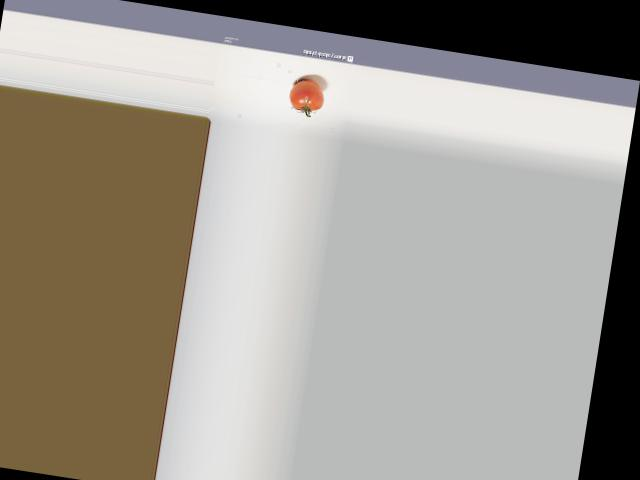tomato: (287, 77, 325, 112)
